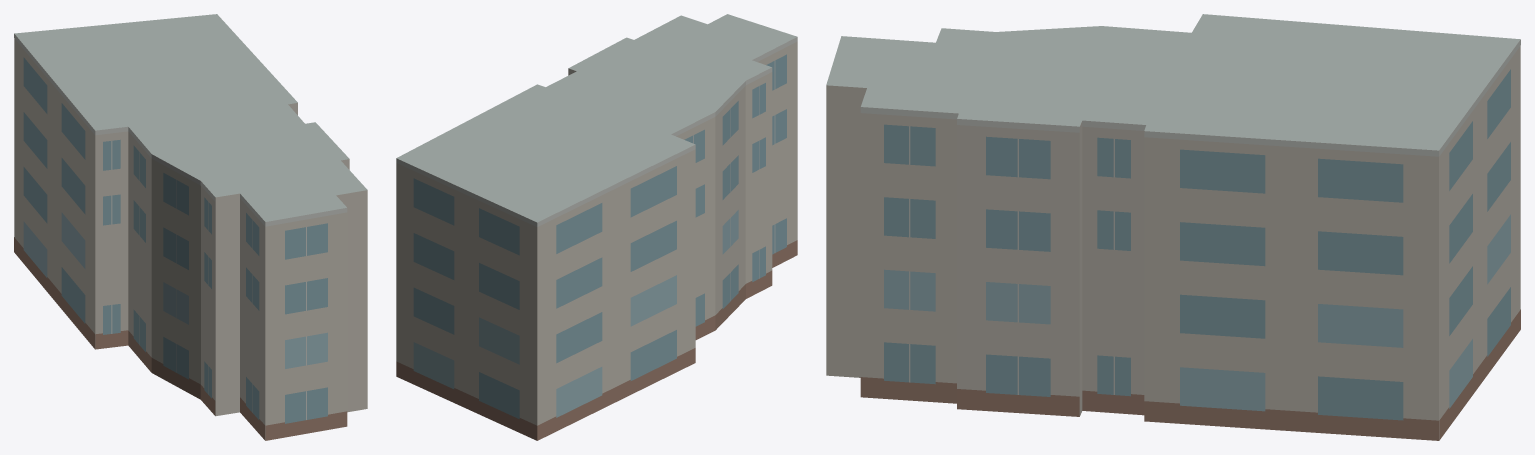
File: survey-upis-32678493.glb
3 views of the same model, side by side, from view 1: azimuth 30°, elevation 25°; view 2: azimuth 150°, elevation 25°; view 3: azimuth 270°, elevation 25° (orthographic). The views are drawn at different scales.
Visible parts, largest first — view 1: survey-upis-32678493.tmp; view 2: survey-upis-32678493.tmp; view 3: survey-upis-32678493.tmp.
Part boxes in pixels (left/top/right/bottom): survey-upis-32678493.tmp: left=14, top=14, right=367, bottom=440; survey-upis-32678493.tmp: left=396, top=14, right=797, bottom=440; survey-upis-32678493.tmp: left=826, top=14, right=1520, bottom=440.
Bounding box in the file's own units: 11.67 × 11.55 × 25.06.
